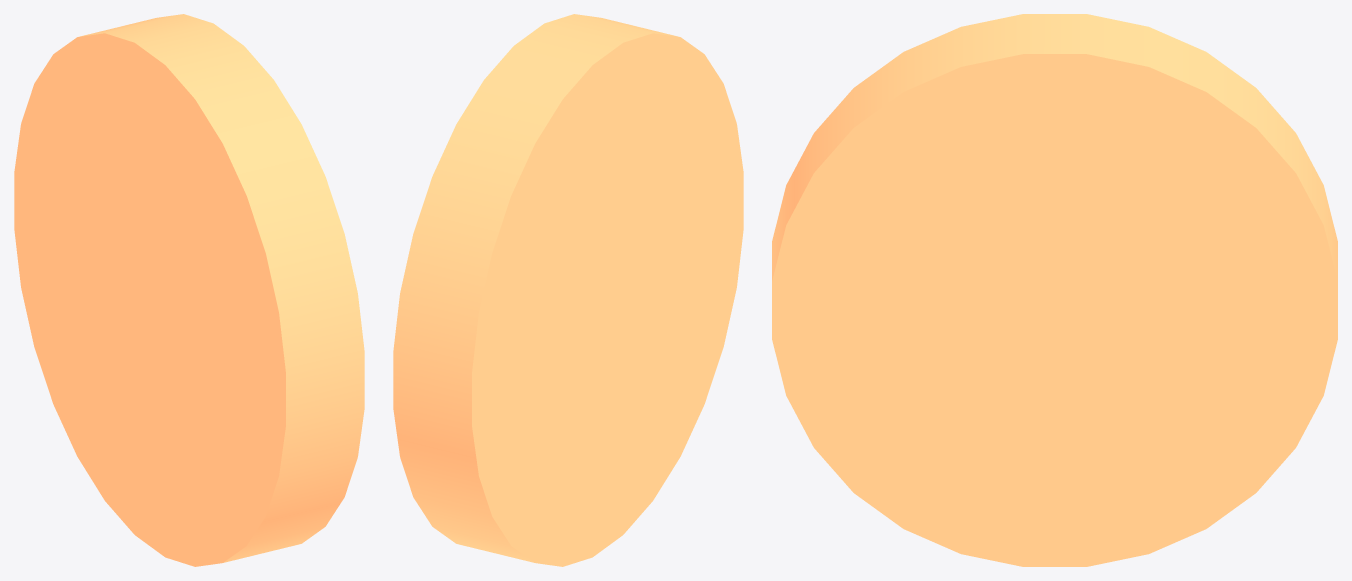
The model's file is SM_RedDot_Reticle.fbx.
3 views of the same model, side by side, from view 1: azimuth 30°, elevation 25°; view 2: azimuth 150°, elevation 25°; view 3: azimuth 270°, elevation 25° (orthographic). The views are drawn at different scales.
Visible parts, largest first — view 1: SM_RedDot_Reticle; view 2: SM_RedDot_Reticle; view 3: SM_RedDot_Reticle.
Boxes of the visible parts, box(x1,y1,x2,y2) form: SM_RedDot_Reticle: box(14, 14, 364, 566); SM_RedDot_Reticle: box(393, 14, 743, 566); SM_RedDot_Reticle: box(772, 14, 1337, 566).
Size of the model in its own units: 0.00225 by 0.000377 by 0.00225.
